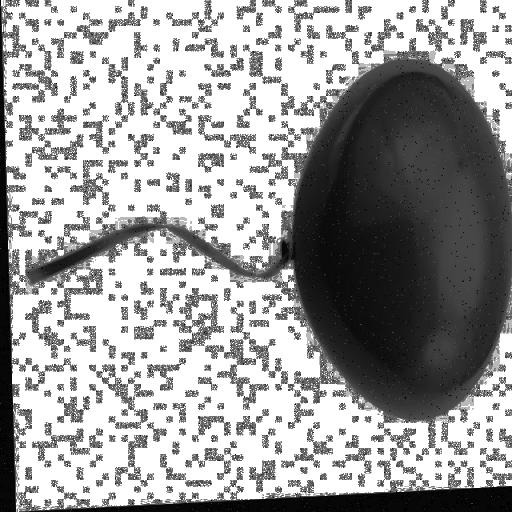balloon: (261, 44, 512, 440)
